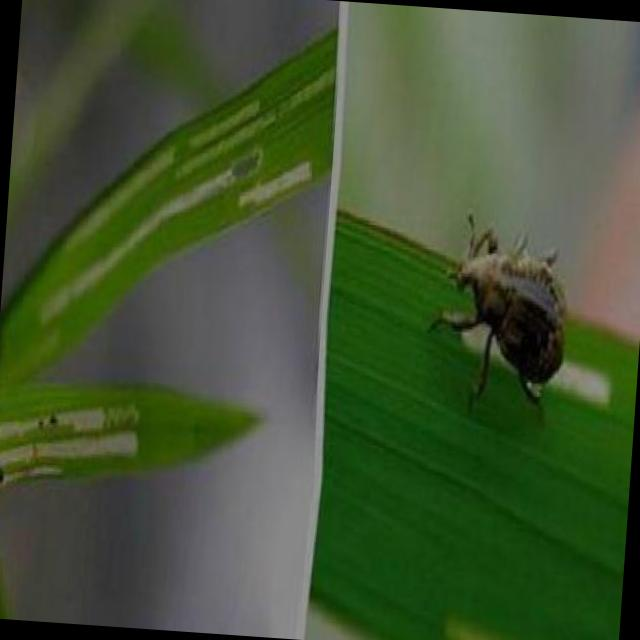rice-bug: (434, 210, 575, 394)
